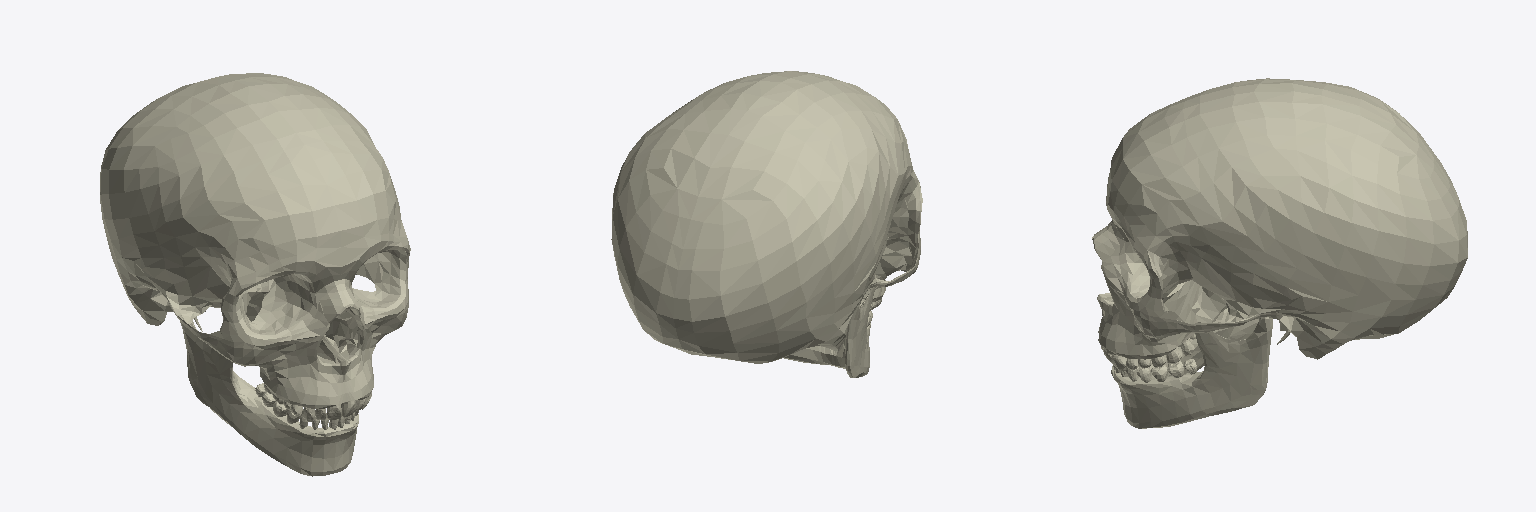
The model's file is pala.obj.
3 views of the same model, side by side, from view 1: azimuth 30°, elevation 25°; view 2: azimuth 150°, elevation 25°; view 3: azimuth 270°, elevation 25° (orthographic).
Visible parts, largest first — view 1: Mesh32 my_skull_mai1 skp1_1 human_skull_cranium_2_1 Model, Mesh33 my_skull_mai1 skp1_1 human_skull_cranium_2_1 Model; view 2: Mesh32 my_skull_mai1 skp1_1 human_skull_cranium_2_1 Model, Mesh33 my_skull_mai1 skp1_1 human_skull_cranium_2_1 Model; view 3: Mesh32 my_skull_mai1 skp1_1 human_skull_cranium_2_1 Model, Mesh33 my_skull_mai1 skp1_1 human_skull_cranium_2_1 Model.
Part boxes in pixels (bbox=[...]): Mesh32 my_skull_mai1 skp1_1 human_skull_cranium_2_1 Model: bbox=[100, 73, 410, 408]; Mesh33 my_skull_mai1 skp1_1 human_skull_cranium_2_1 Model: bbox=[180, 321, 358, 476]; Mesh32 my_skull_mai1 skp1_1 human_skull_cranium_2_1 Model: bbox=[611, 71, 922, 363]; Mesh33 my_skull_mai1 skp1_1 human_skull_cranium_2_1 Model: bbox=[784, 287, 875, 377]; Mesh32 my_skull_mai1 skp1_1 human_skull_cranium_2_1 Model: bbox=[1092, 78, 1467, 359]; Mesh33 my_skull_mai1 skp1_1 human_skull_cranium_2_1 Model: bbox=[1111, 308, 1272, 428].
Bounding box in the file's own units: 0.1555 × 0.2127 × 0.2208.